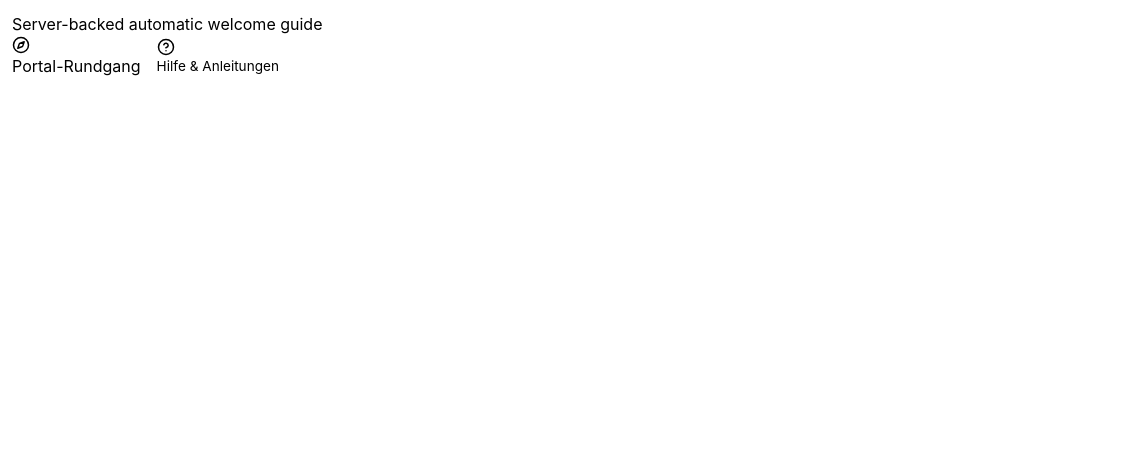
Test: live portal guidance › shows automatic onboarding only while the live tour is inactive and restores it on pause
Check: the text "Server-backed automatic welcome guide" is shown, box [12, 14, 322, 34]
Click the button "Portal-Rundgang".
click(76, 57)  # box [12, 36, 141, 78]
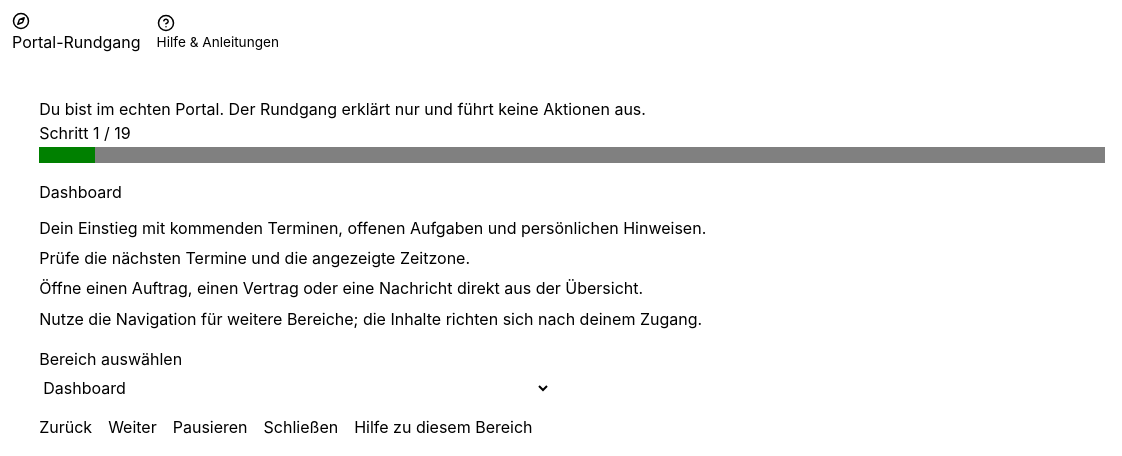
Check: the text "Server-backed automatic welcome guide" is gone
Check: the button "Weiter" is shown, box [108, 415, 157, 439]
Click the button "Pausieren".
click(210, 427)  # box [173, 415, 248, 439]
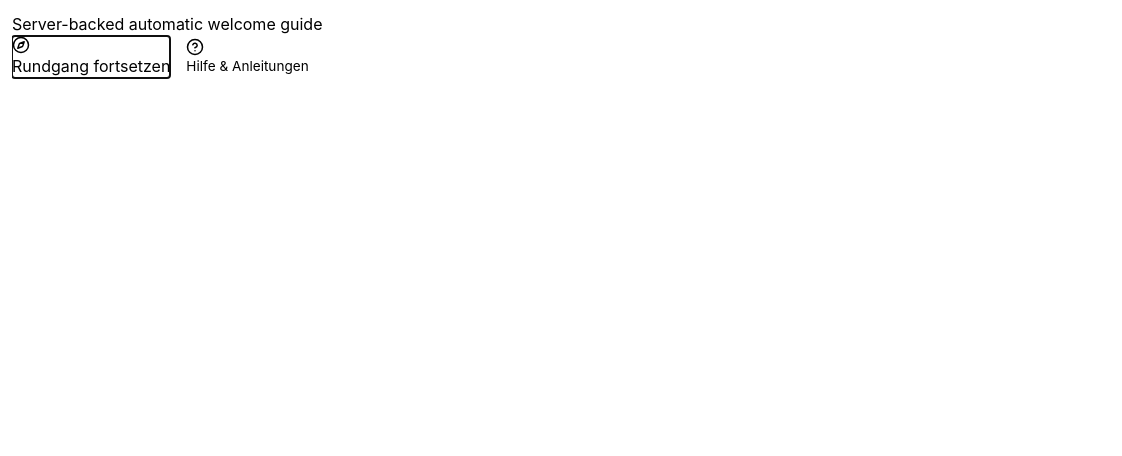
Check: the text "Server-backed automatic welcome guide" is shown, box [12, 14, 322, 34]
Check: the list item "weiter" is gone
